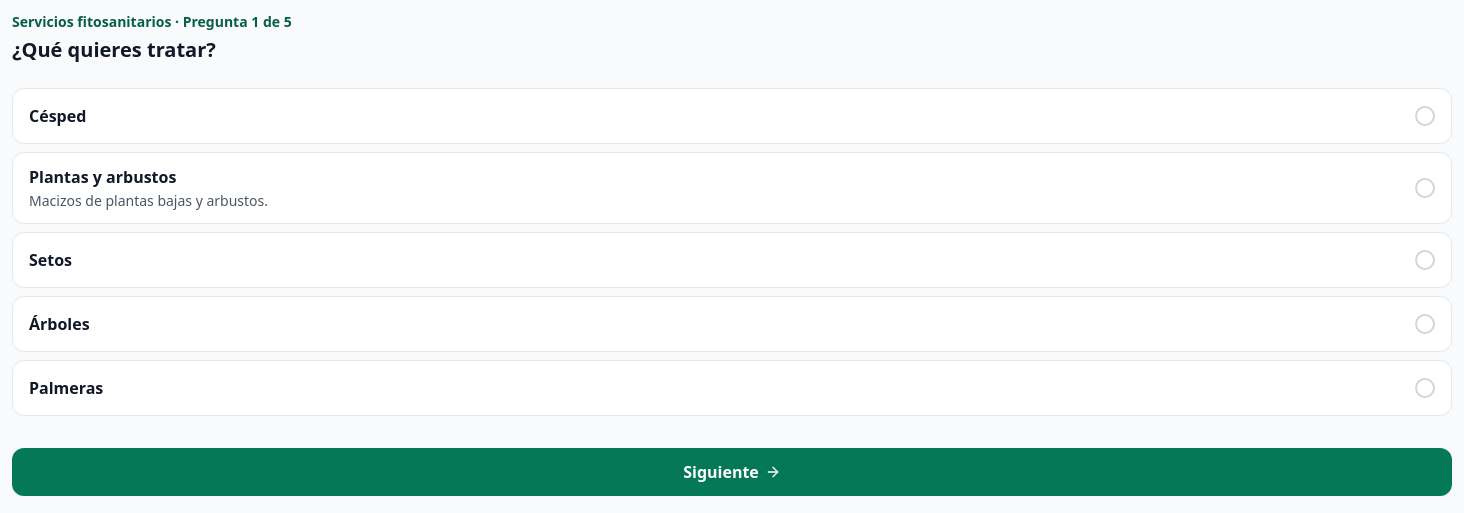
fitosanitarios · cantidad y tamaño en una pantalla (D-05, P-08, D-12) › Setos: «¿Cuántos metros de seto hay que tratar?» con el campo «Longitud de seto»
The image size is (1464, 513).
Click the radio button labelled "Setos" at {"x": 51, "y": 260}, box [12, 232, 1452, 288]
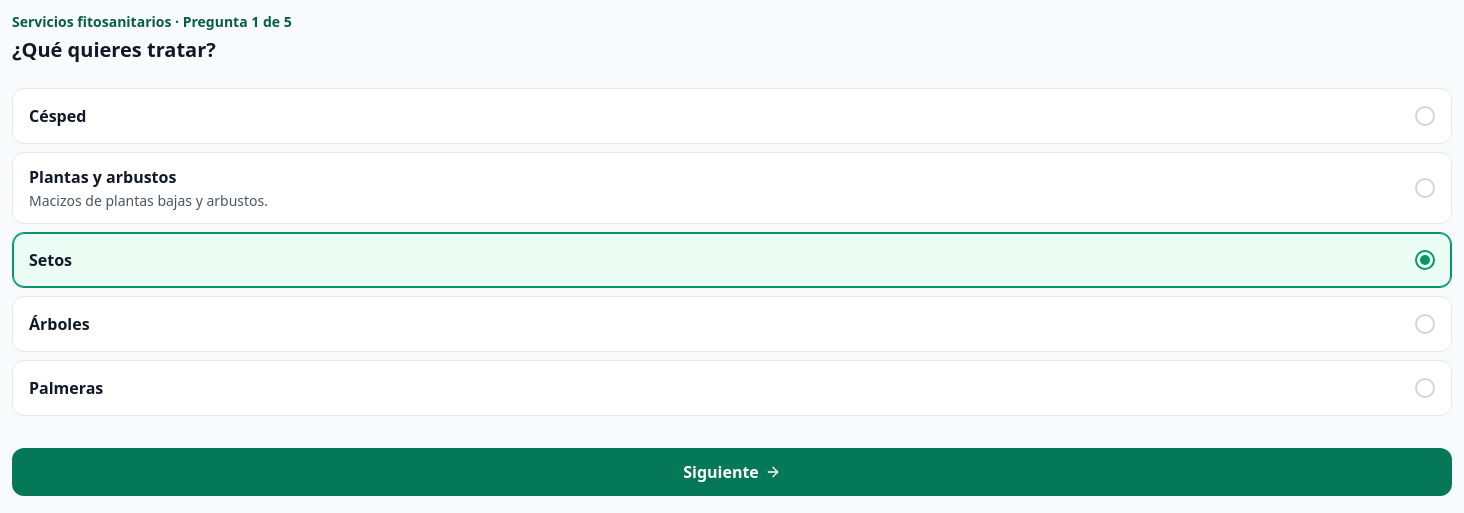
Click the button "Siguiente" at {"x": 732, "y": 472}, box [12, 448, 1452, 496]
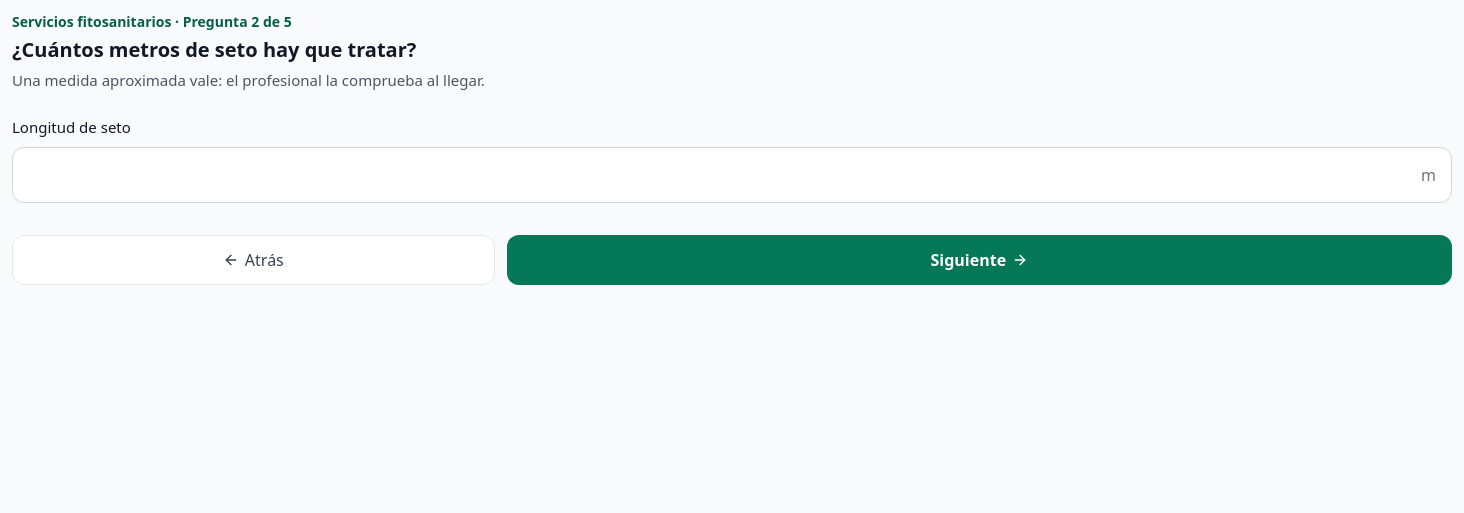
Expected: the heading reads "¿Cuántos metros de seto hay que tratar?", [12, 36, 416, 63]
Expected: the field labelled "Longitud de seto" is shown, [12, 146, 1452, 202]
